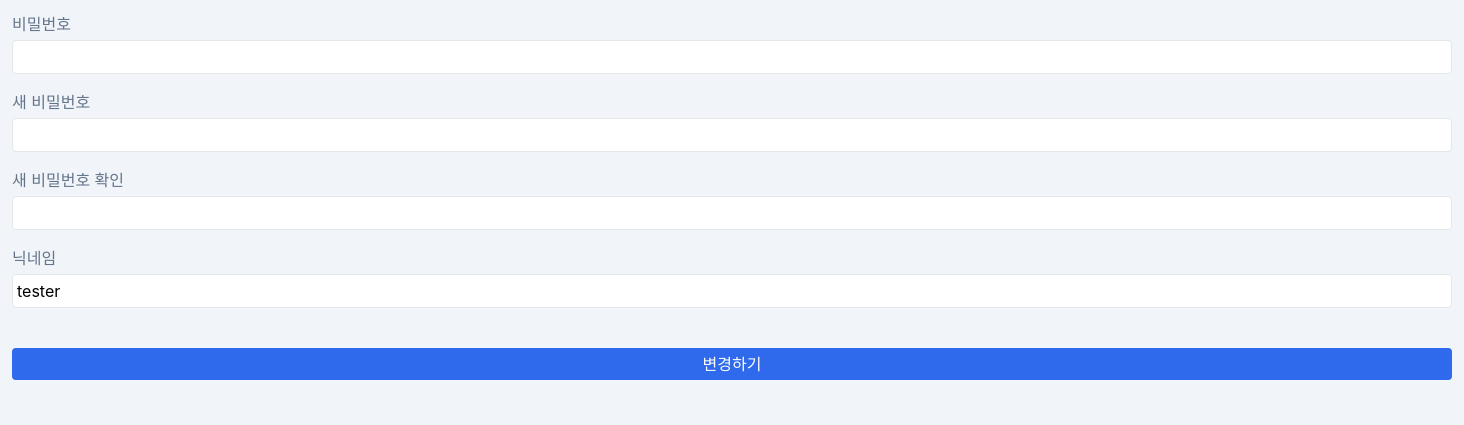
EditProfileForm › `비밀번호` 필드를 8자 미만으로 입력하고 `변경하기` 버튼을 누르면 `비밀번호는 최소 8자 이상이어야 합니다.` 메시지를 보여준다.
In the password field labelled "비밀번호": (732, 57) [12,40,1452,74], type "pwd1234"
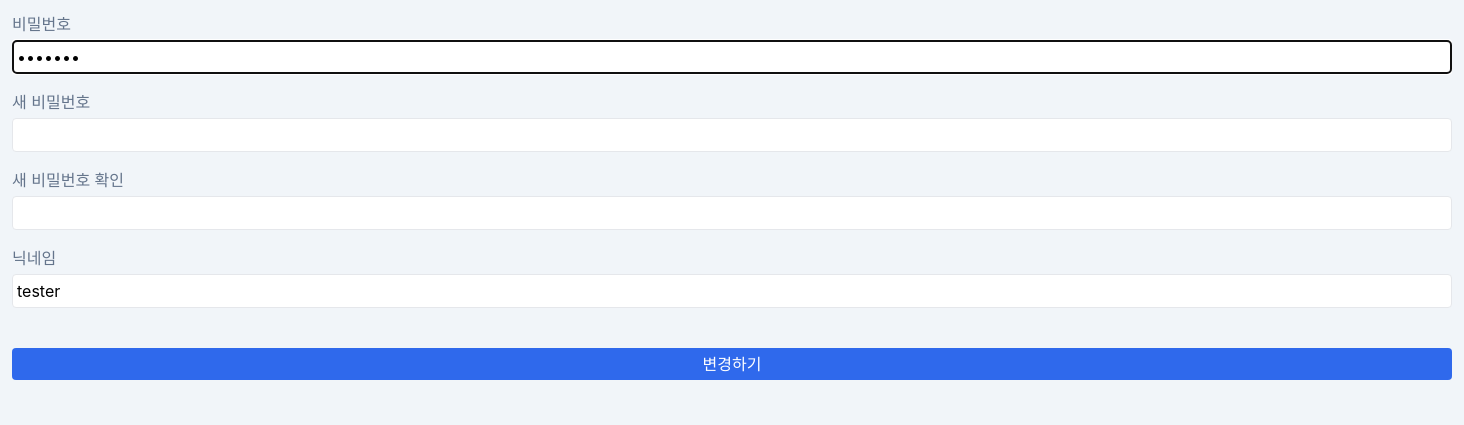
In the password field labelled "새 비밀번호": (732, 135) [12,118,1452,152], type "newpwd1234"
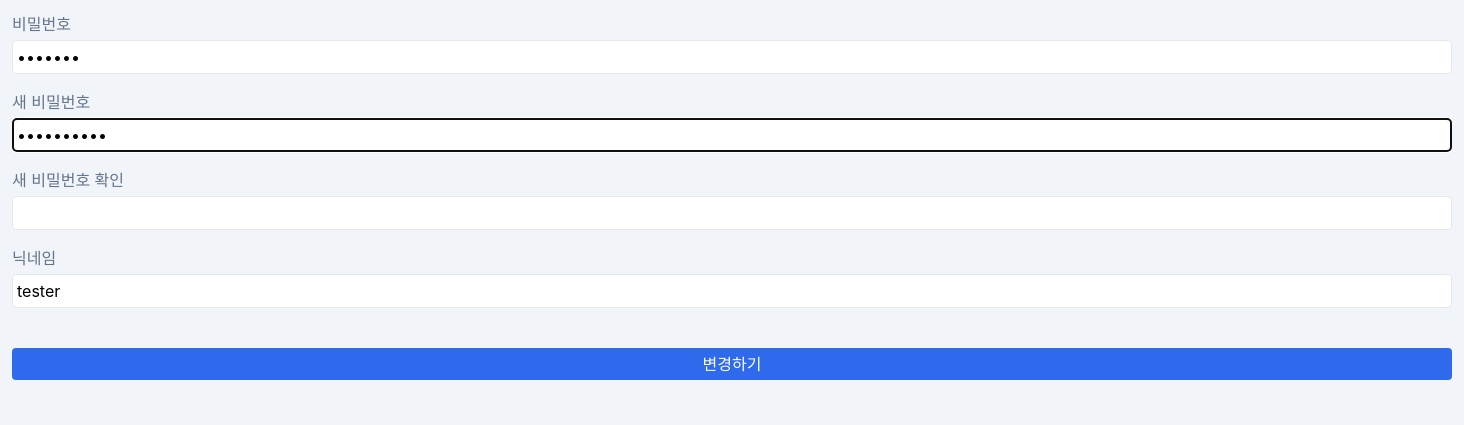
In the password field labelled "새 비밀번호 확인": (732, 213) [12,196,1452,230], type "newpwd1234"
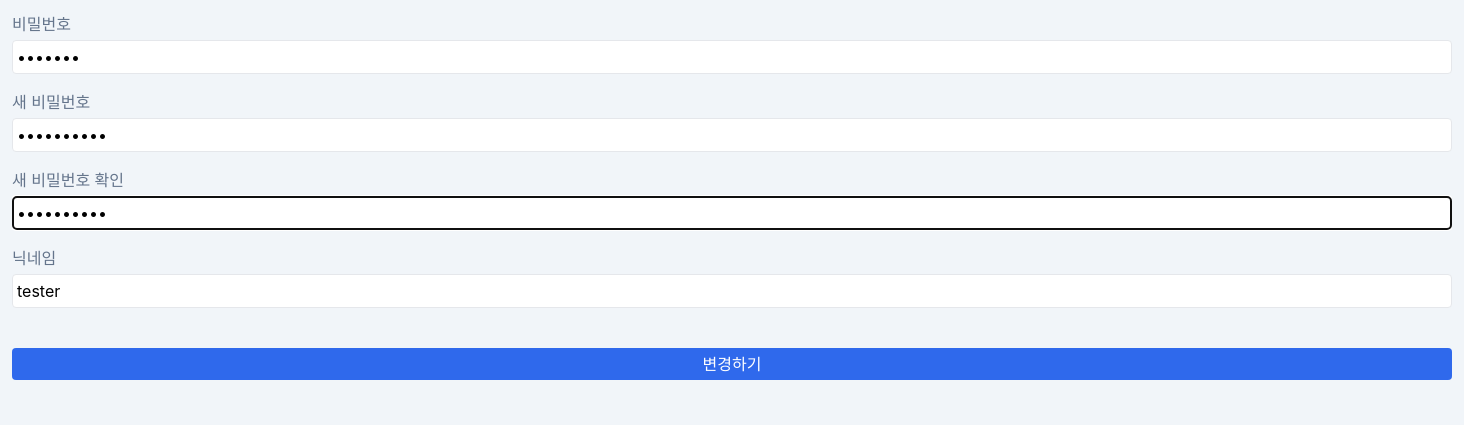
In the field labelled "닉네임": (732, 291) [12,274,1452,308], type "tester1234"
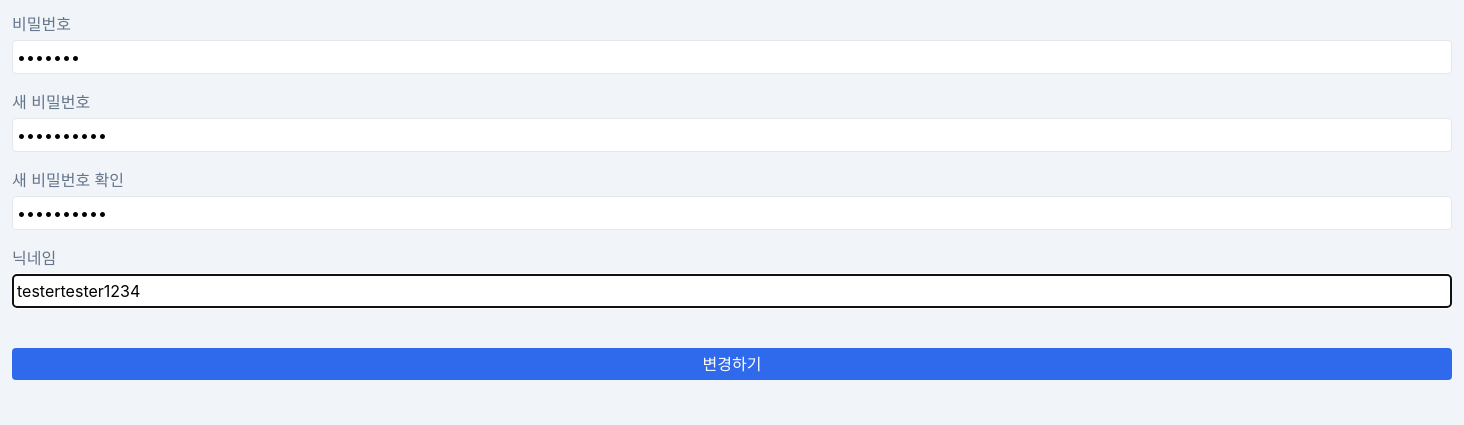
Click the button "변경하기": (732, 364) [12,348,1452,380]
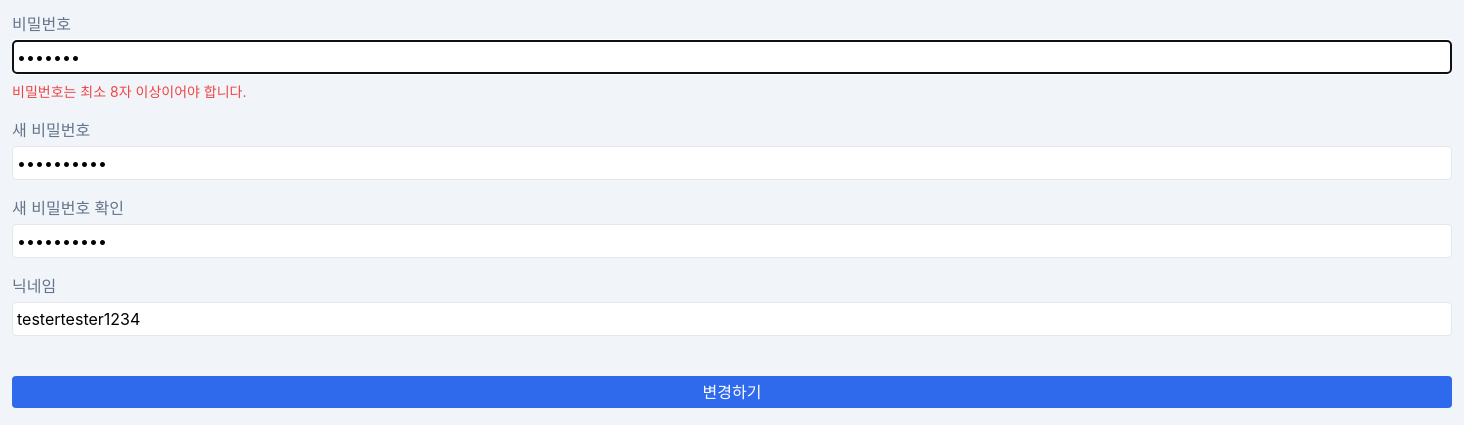
Now the message reads "비밀번호는 최소 8자 이상이어야 합니다.", box [12,83,246,100]
